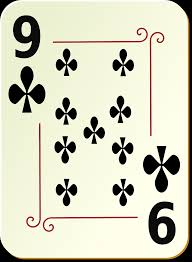nine of clubs: (3, 1, 189, 262)
